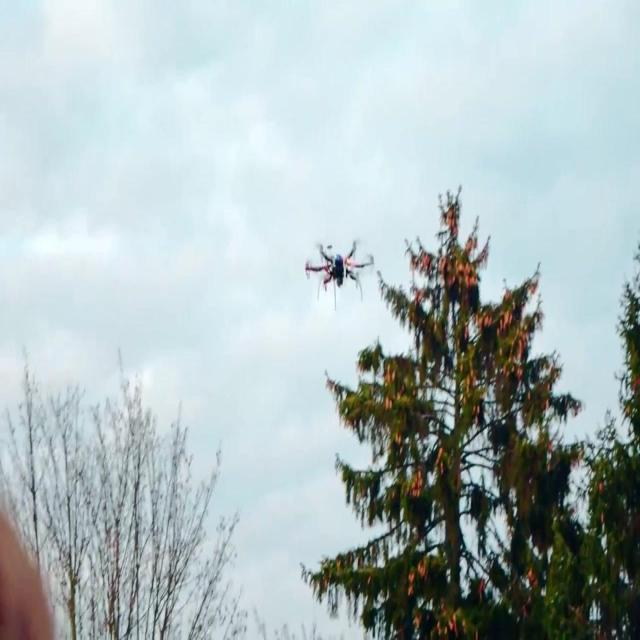drone: (300, 235, 376, 312)
